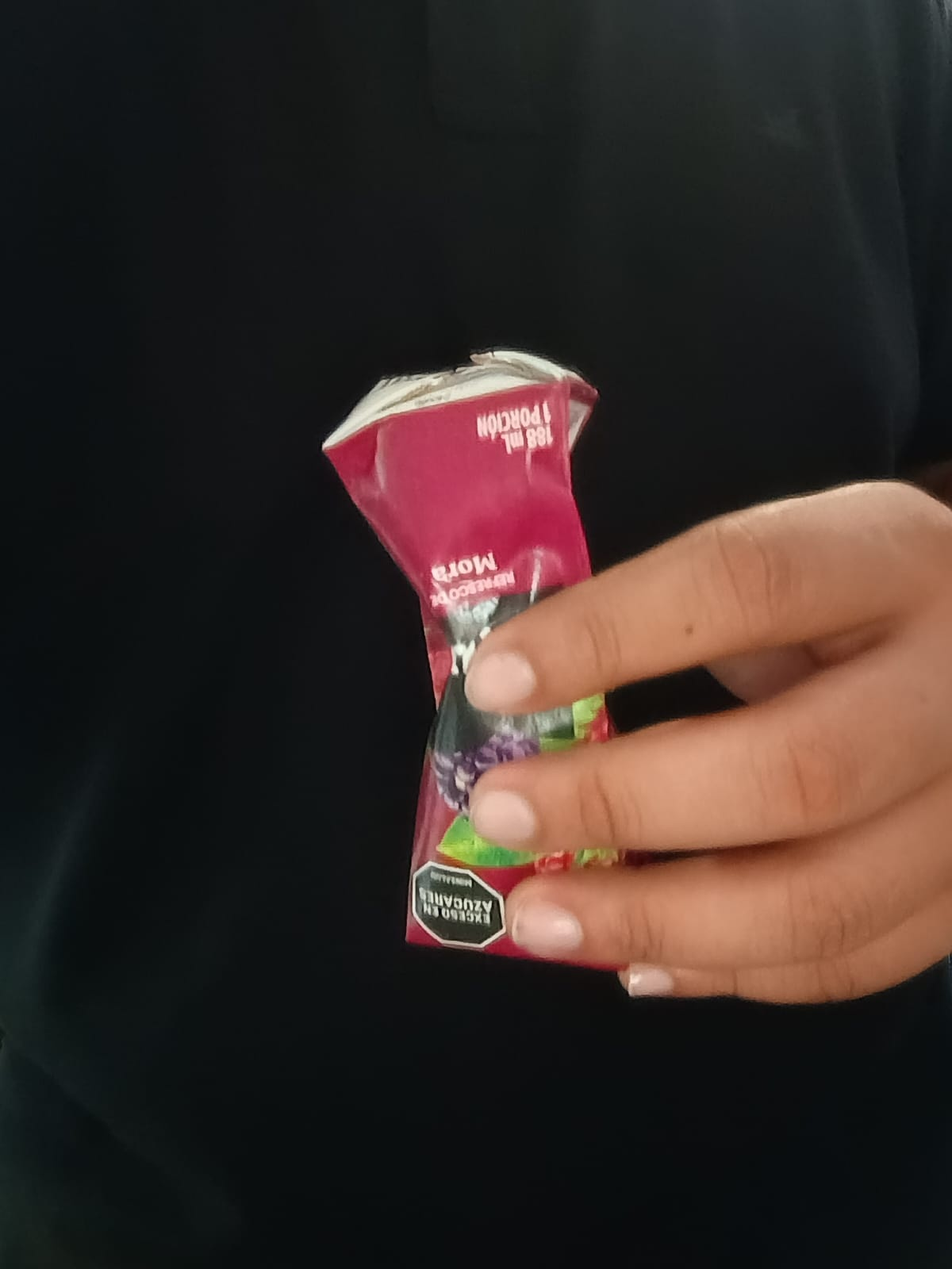Carton: (322, 345, 618, 950)
